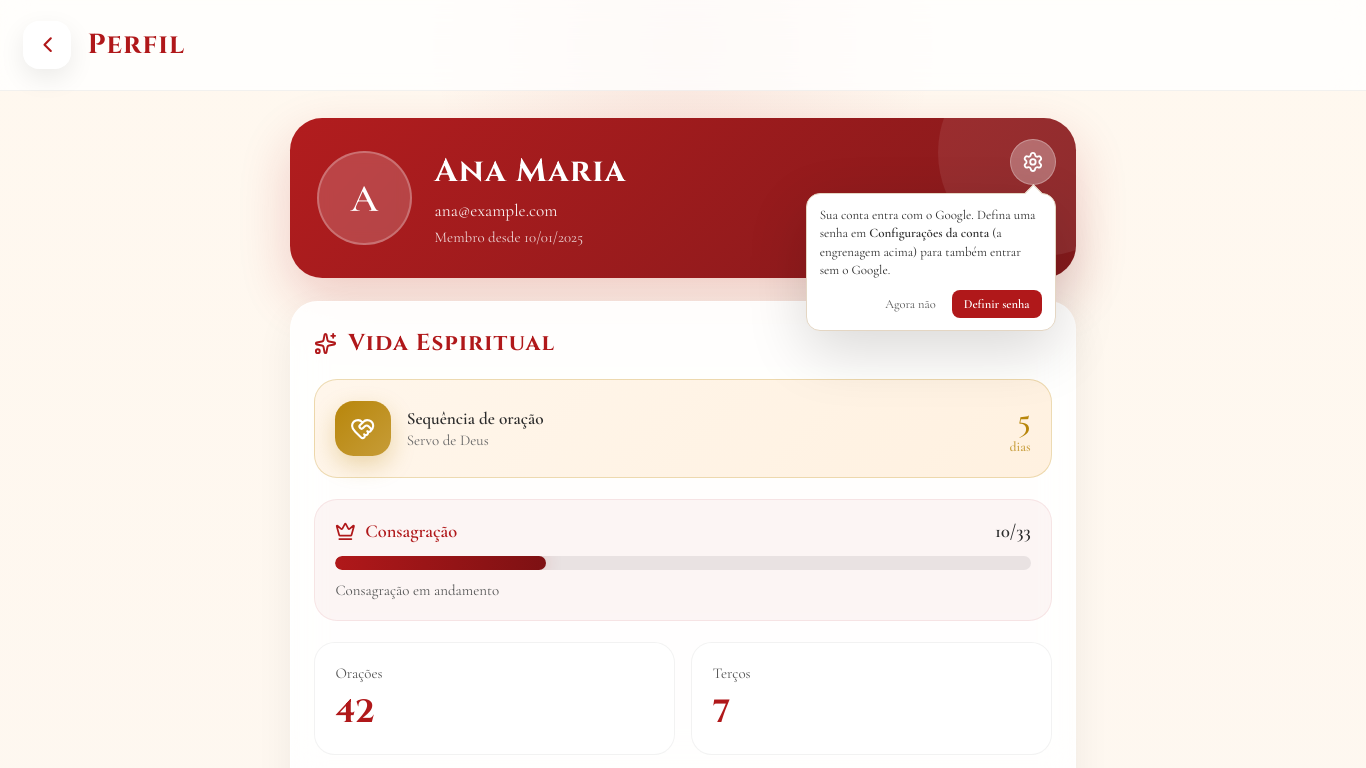
Profile › dismisses the hint with 'Agora não' and stamps the cooldown
Click the button "Agora não": (910, 304) [877,290,944,318]
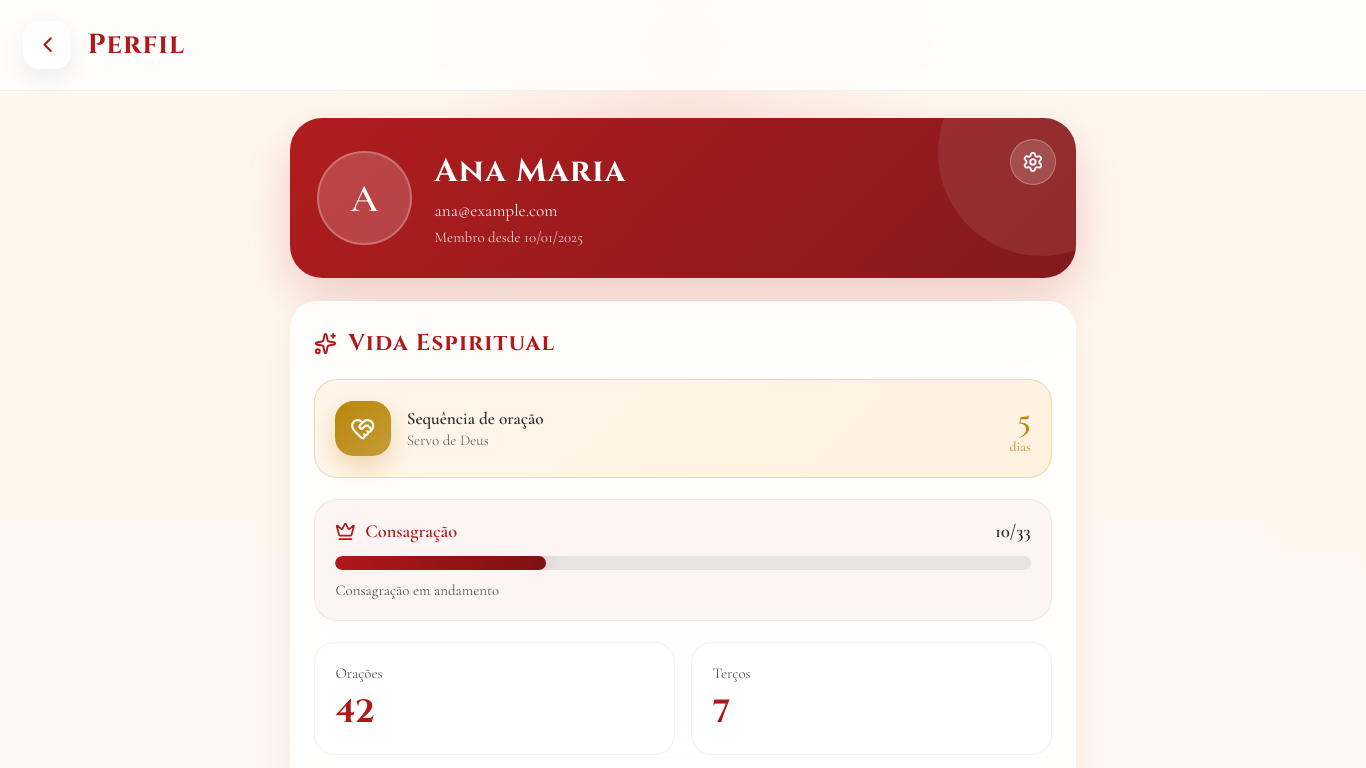
Result: the text "Defina uma senha em" is gone
